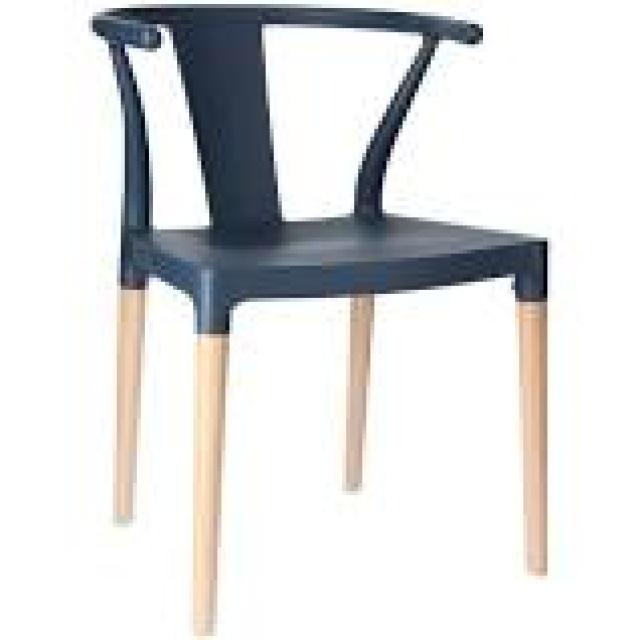bottle: (83, 5, 558, 638)
